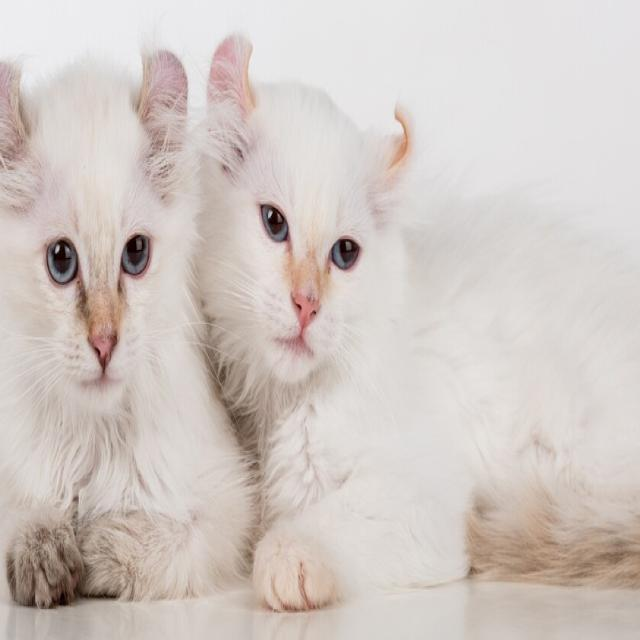American Curl: (190, 29, 640, 614), (0, 30, 190, 614)
